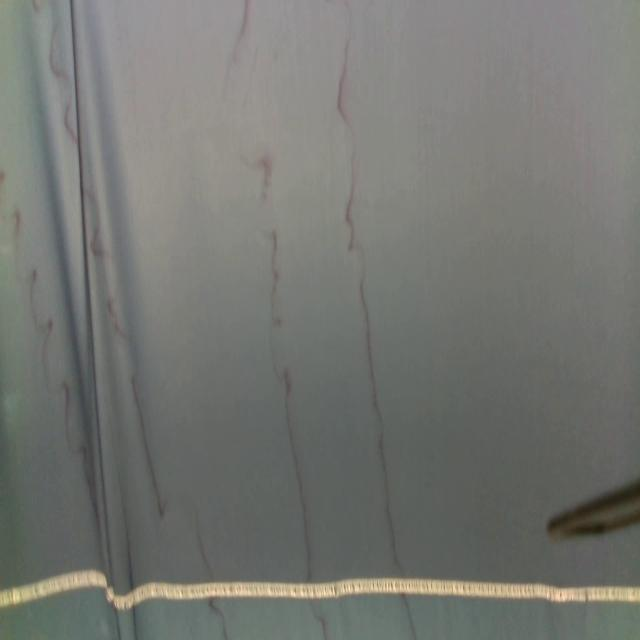crease: (69, 0, 113, 577)
